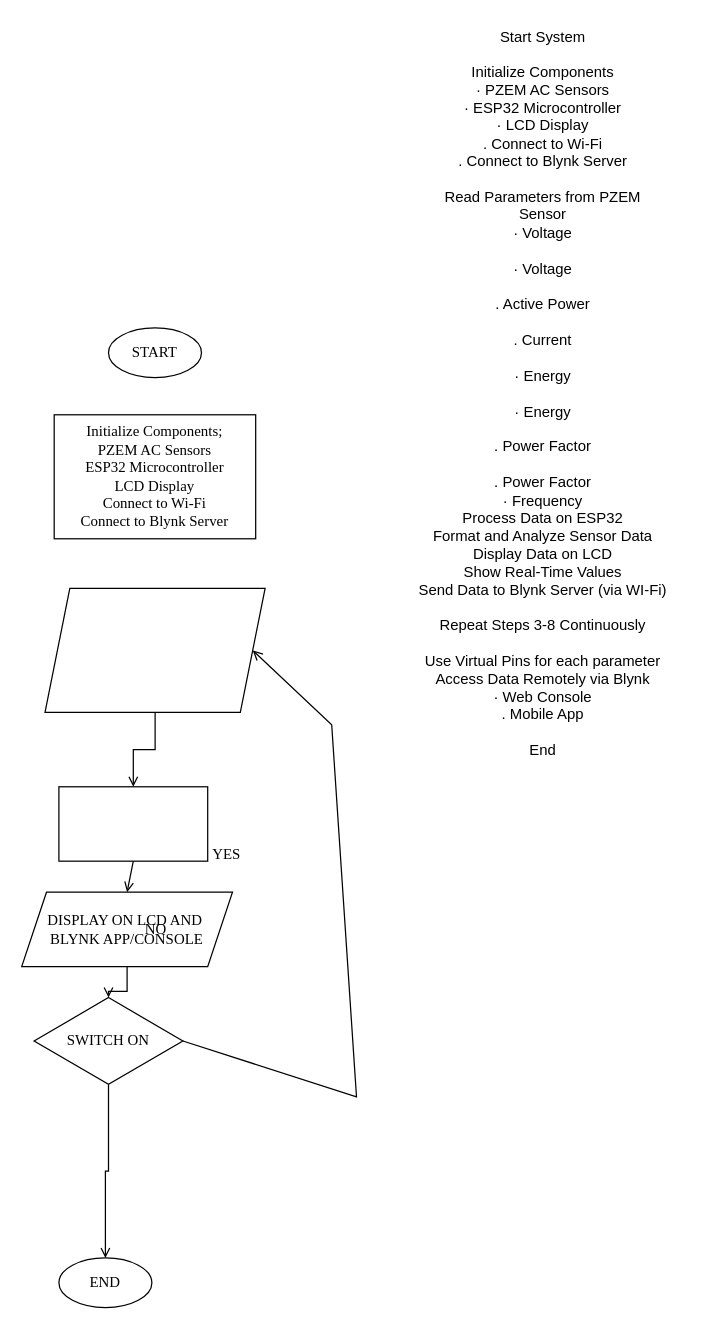
This 701x1329 diagram has some shape labels left out. Each missing label, with the centre of its shape:
"FORMAT AND ANALYZE SENSOR DATA" belongs at (x=133, y=823).
"Read Parameters from PZEM Sensor; Voltage Current Power Energy" belongs at (x=154, y=649).
